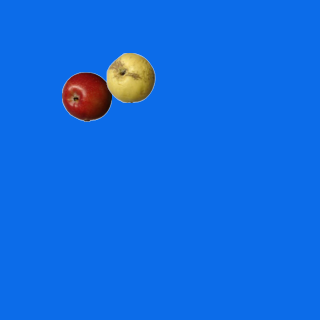Apple Braeburn: (61, 71, 111, 121)
Apple Golden 1: (105, 52, 155, 102)
